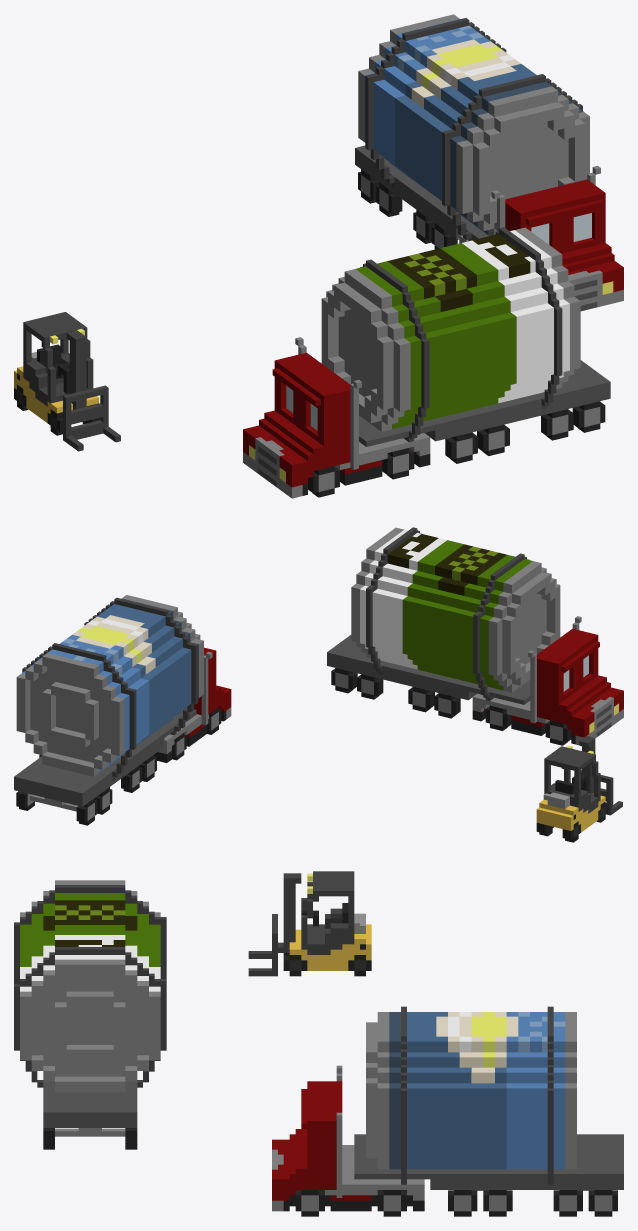
File: soup-1-1.obj
3 renders of one model, top to bottom at view 1: azimuth 30°, elevation 25°; view 2: azimuth 150°, elevation 25°; view 3: azimuth 270°, elevation 25°, orthographic. The views are drawn at different scales.
Parts seen in each view (by area): view 1: soup-1-1; view 2: soup-1-1; view 3: soup-1-1.
Boxes of the visible parts, box(x1,y1,x2,y2) form: soup-1-1: box(14, 14, 623, 498); soup-1-1: box(14, 527, 623, 842); soup-1-1: box(14, 871, 623, 1216).
Bounding box in the file's own units: 110 × 33 × 104.
1 material, 1 textured.
